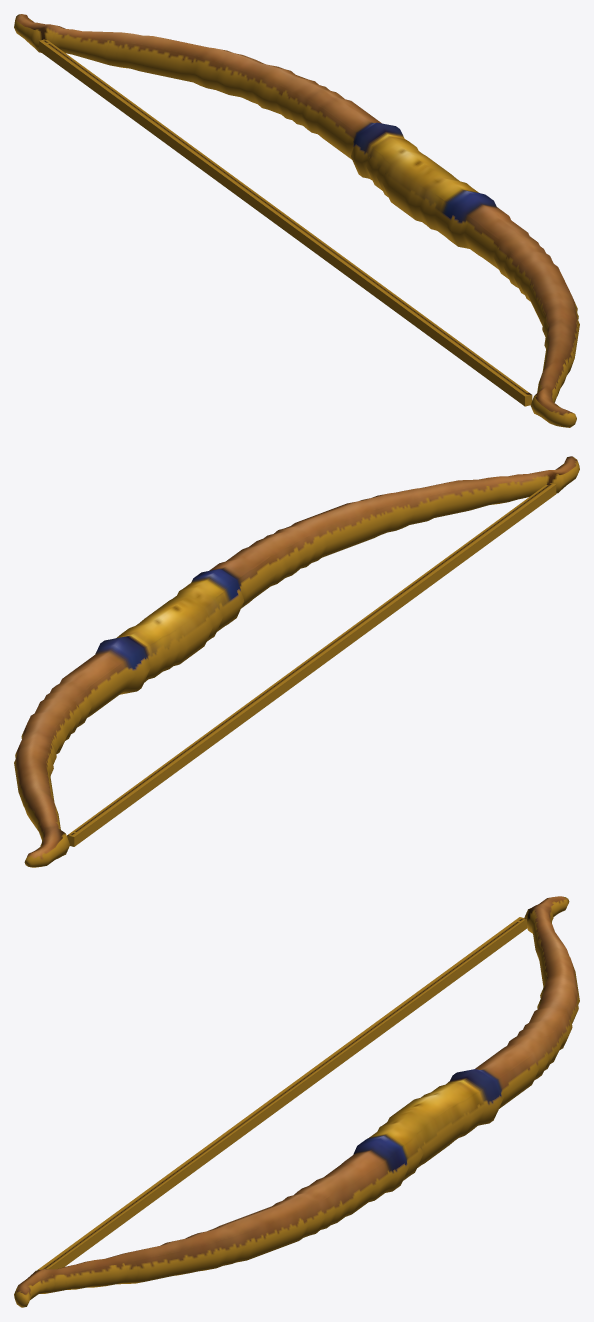
The model's file is item_mm9_10041.glb.
3 renders of one model, top to bottom at view 1: azimuth 30°, elevation 25°; view 2: azimuth 150°, elevation 25°; view 3: azimuth 330°, elevation 25°, orthographic.
Parts seen in each view (by area): view 1: d10041; view 2: d10041; view 3: d10041.
Part boxes in pixels (bbox=[...]): d10041: bbox=[14, 14, 579, 427]; d10041: bbox=[14, 456, 579, 867]; d10041: bbox=[14, 896, 579, 1307].
Bounding box in the file's own units: 32.48 × 9.92 × 179.
1 material, 1 textured.
